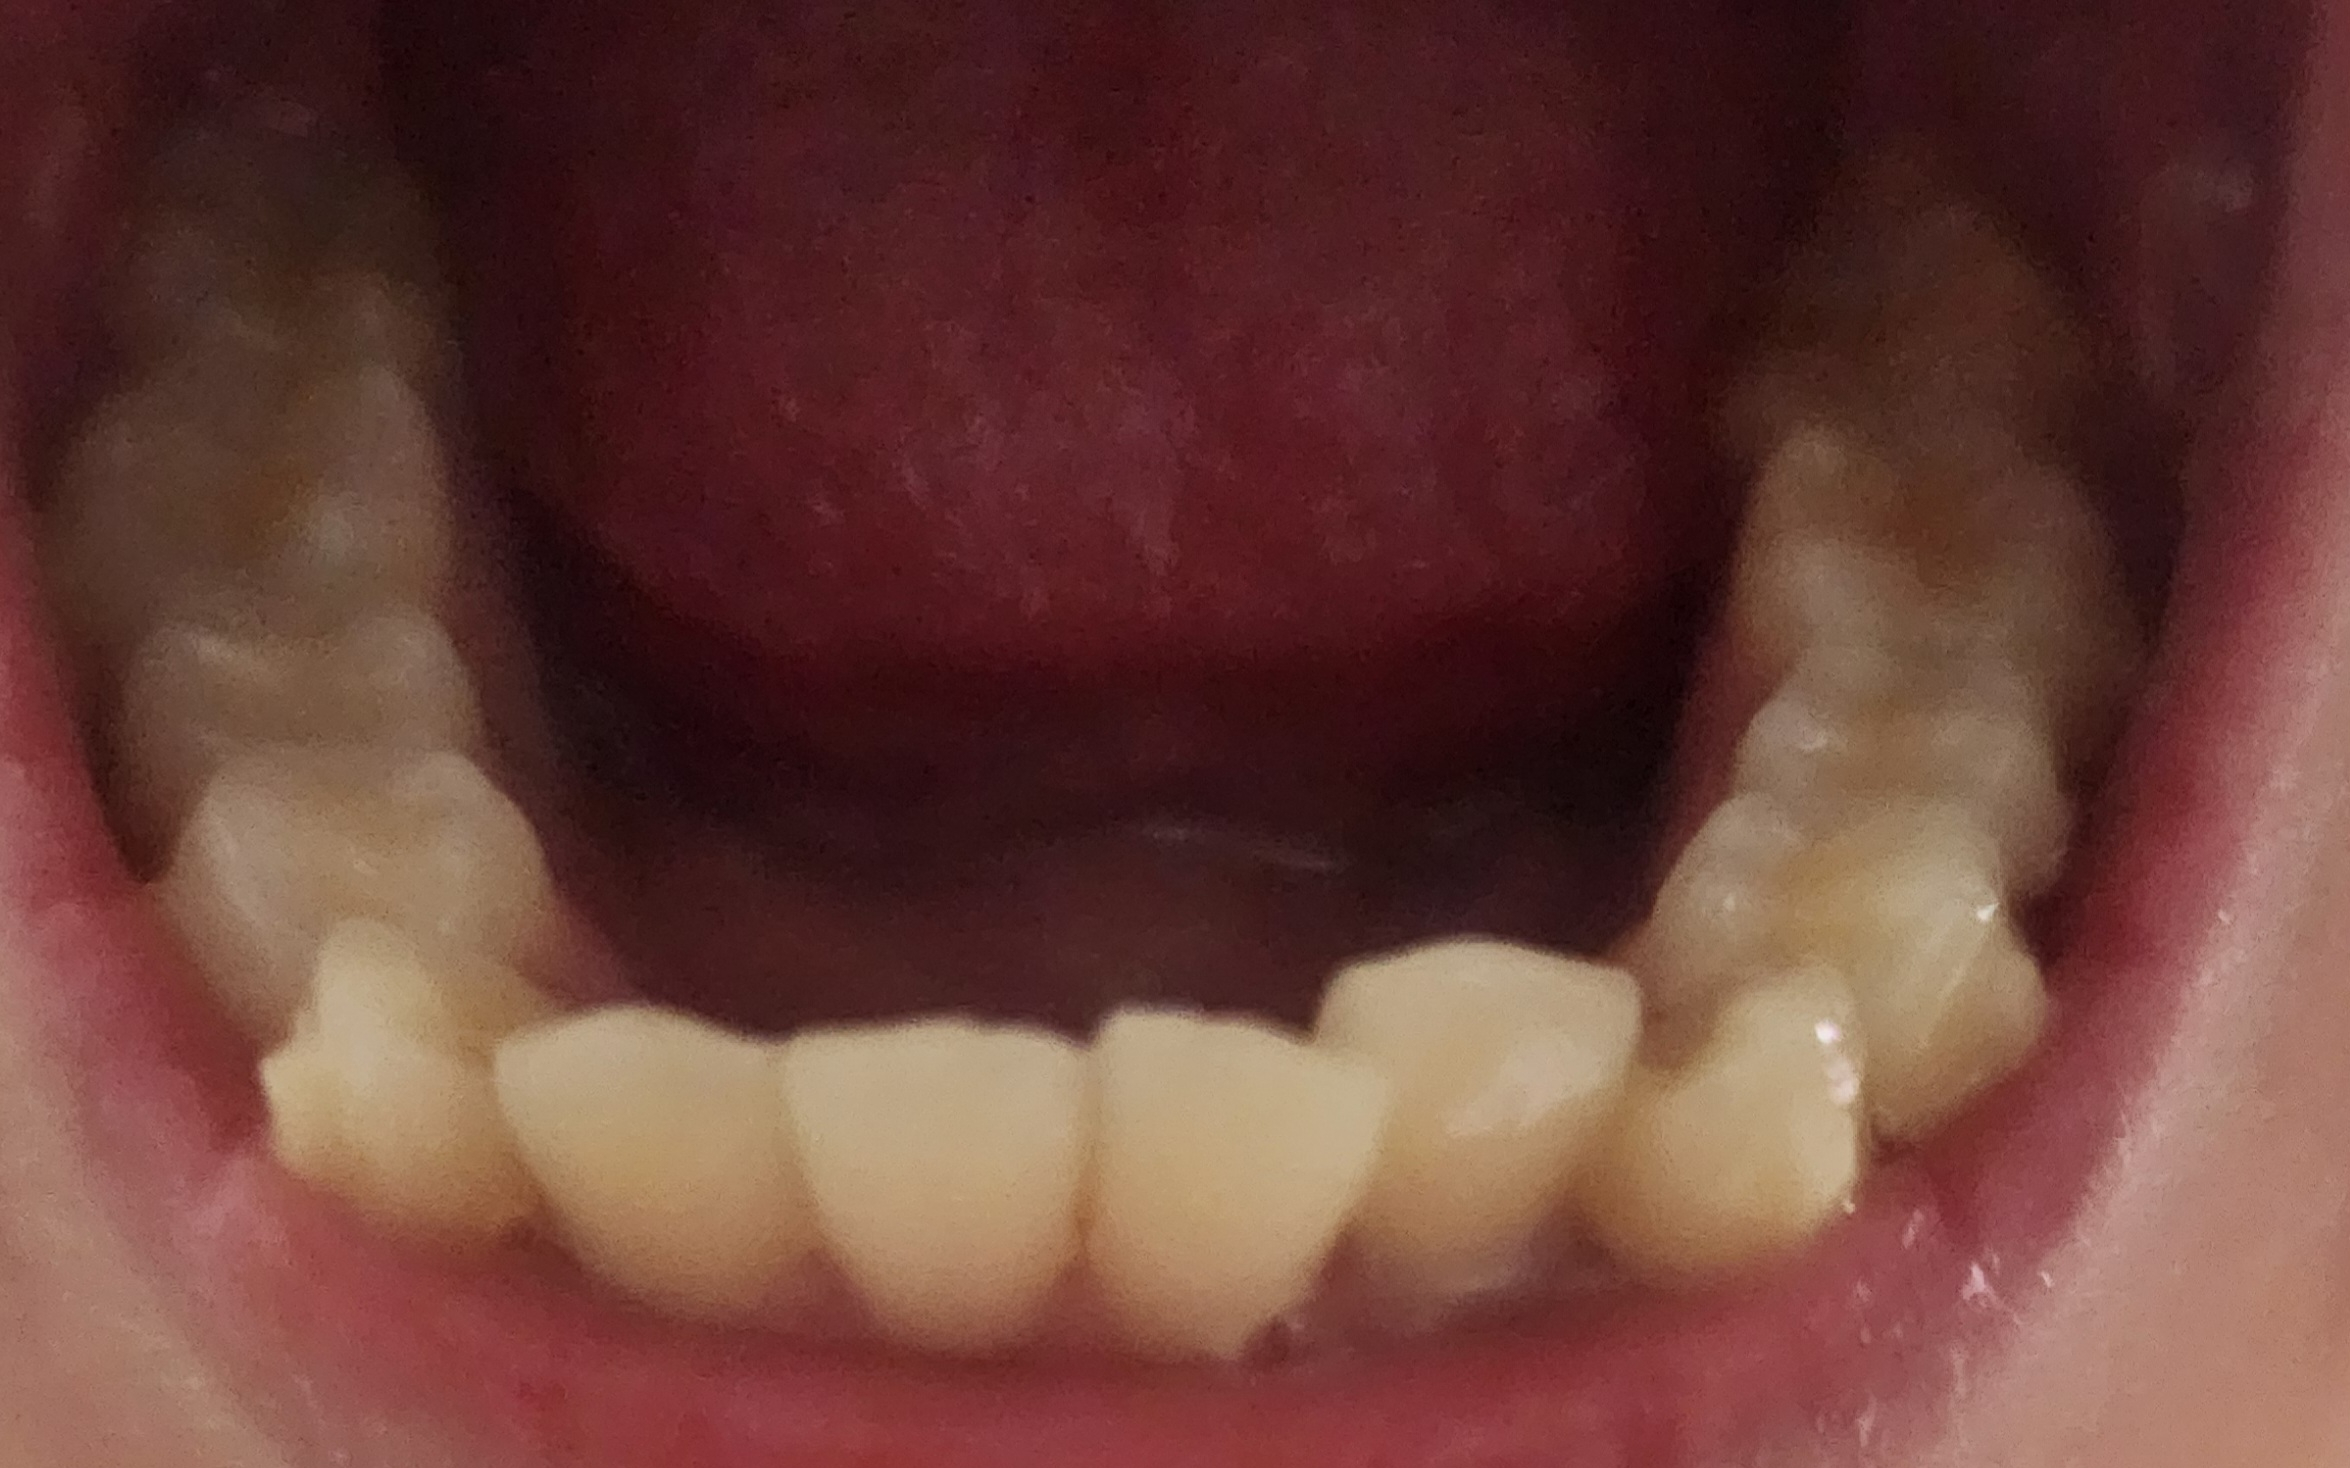teeth: (1652, 819, 2029, 1109), (1107, 1016, 1410, 1343), (1736, 421, 2123, 660), (1601, 964, 1868, 1295), (178, 758, 539, 996), (255, 928, 536, 1230), (1358, 961, 1626, 1274), (798, 1027, 1055, 1353), (494, 1030, 781, 1309), (79, 360, 446, 568), (1743, 639, 2069, 859), (135, 592, 477, 741)
